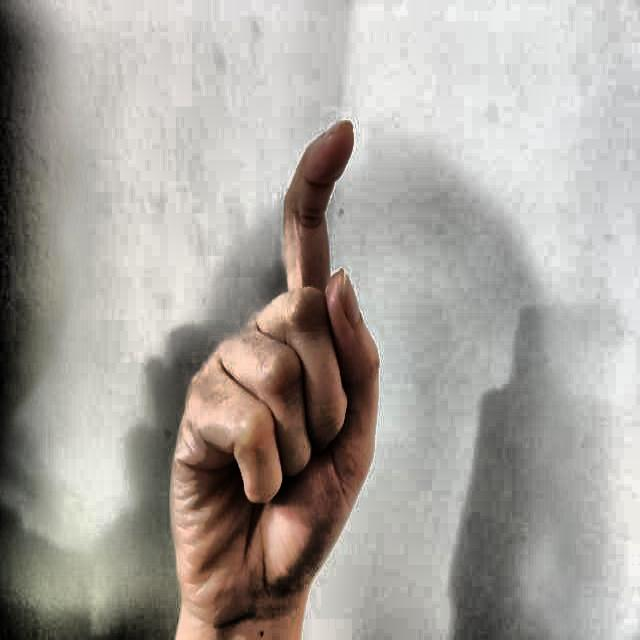E: (134, 100, 394, 612)
